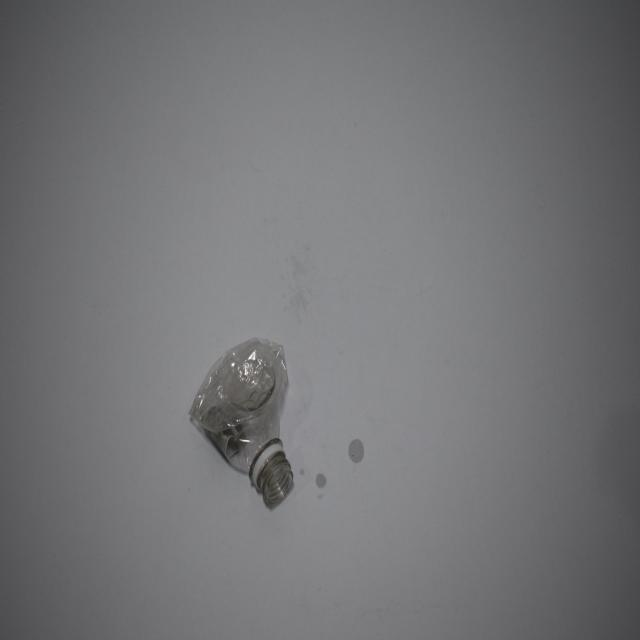bottle: (178, 331, 306, 525)
